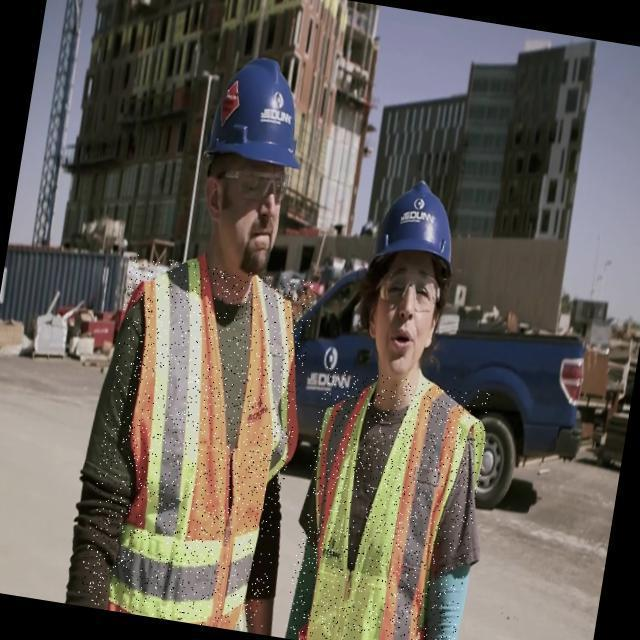helmet: (205, 47, 305, 191), (373, 173, 458, 287)
vest: (77, 253, 318, 635), (282, 366, 493, 640)
